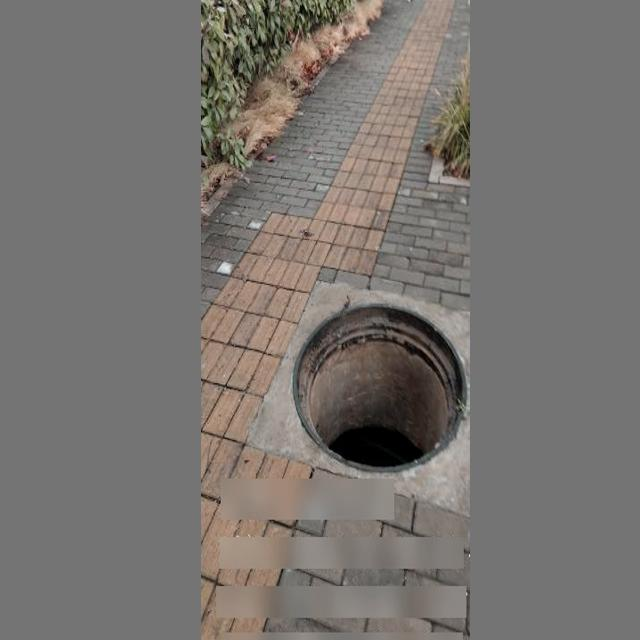lose: (293, 299, 470, 474)
